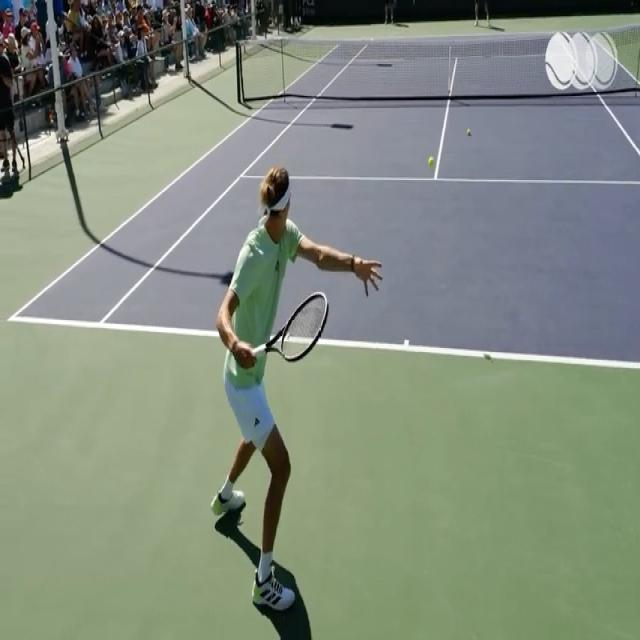forehand-ready: (213, 171, 382, 614)
